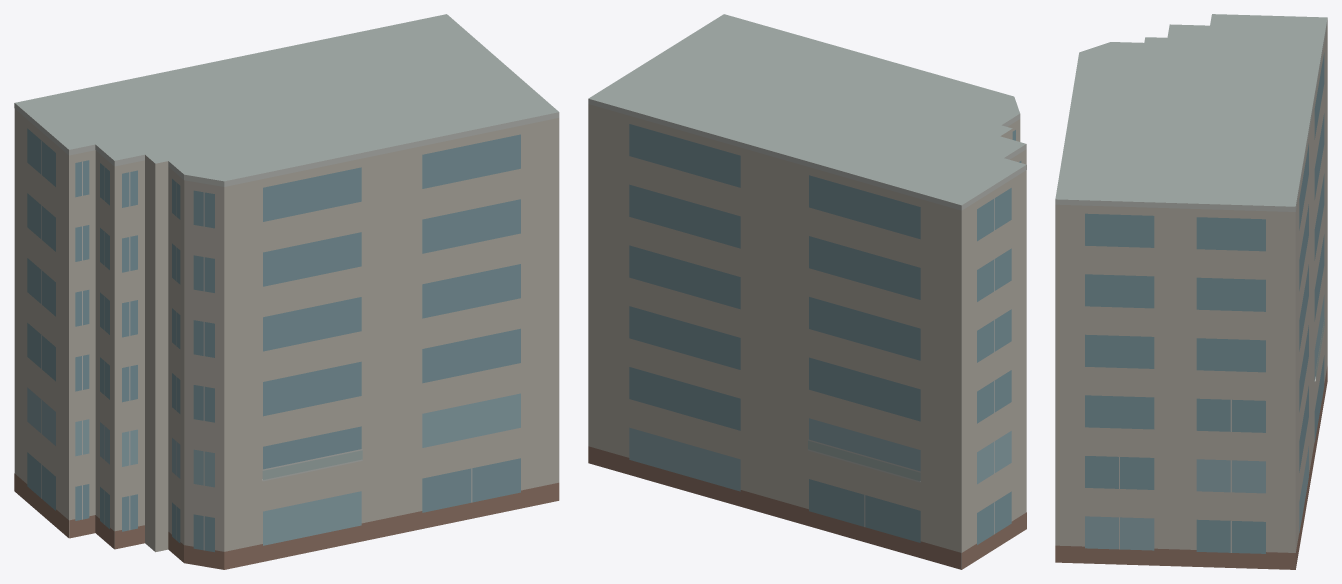
File: survey-upis-32667073.glb
The picture shows the model from 3 angles, left to right: view 1: azimuth 30°, elevation 25°; view 2: azimuth 150°, elevation 25°; view 3: azimuth 270°, elevation 25°; orthographic projection. The views are drawn at different scales.
Visible parts, largest first — view 1: survey-upis-32667073.tmp; view 2: survey-upis-32667073.tmp; view 3: survey-upis-32667073.tmp.
Boxes of the visible parts, box(x1,y1,x2,y2) form: survey-upis-32667073.tmp: box(14, 14, 559, 569); survey-upis-32667073.tmp: box(588, 14, 1026, 569); survey-upis-32667073.tmp: box(1055, 14, 1327, 569).
Size of the model in its own units: 19.13 by 16.8 by 11.43.
